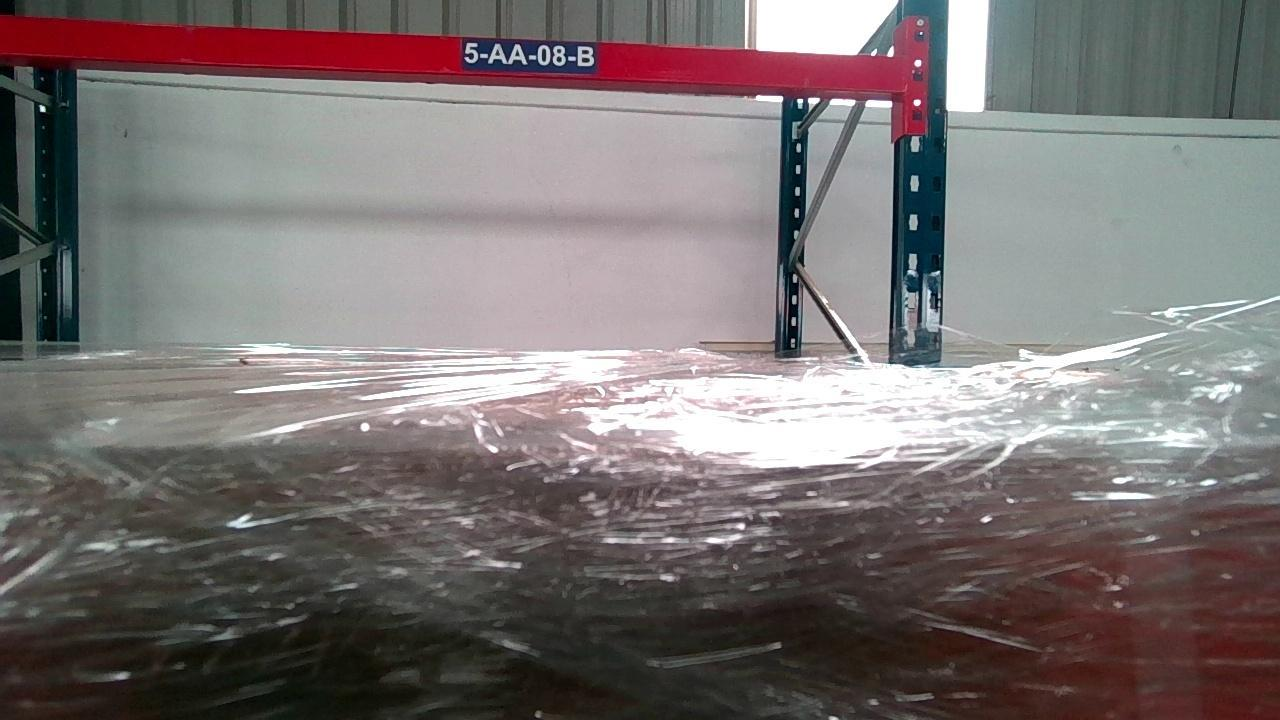h_rack: (0, 14, 902, 92)
